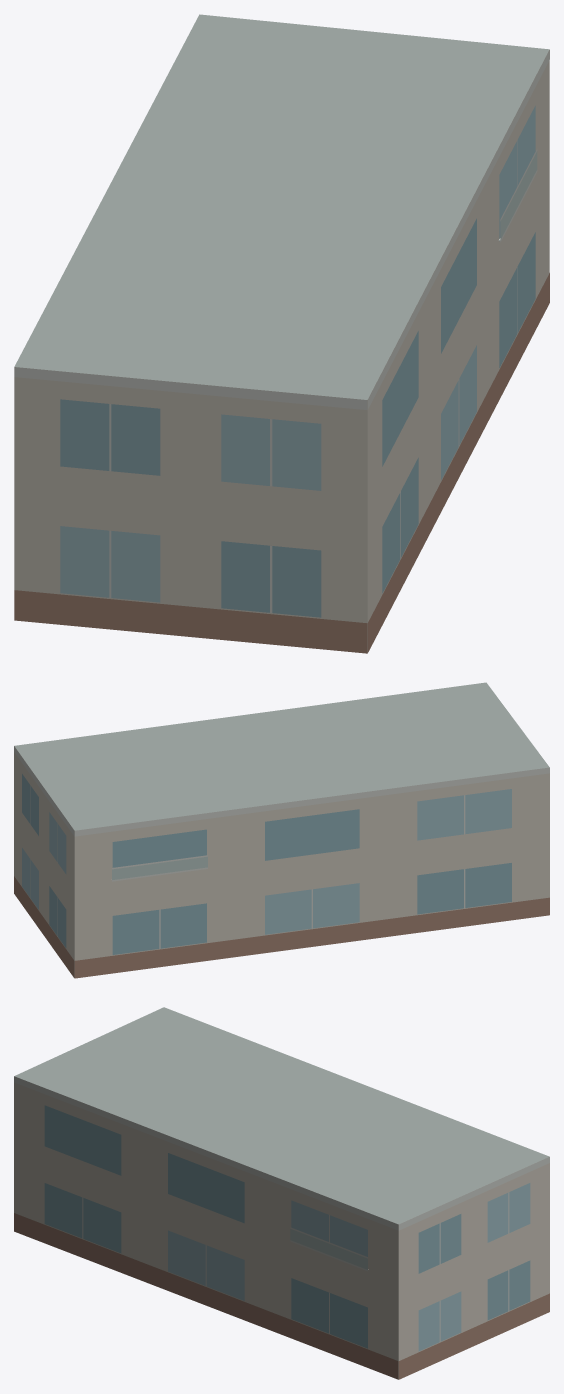
File: survey-upis-32711264.glb
The picture shows the model from 3 angles, top to bottom: view 1: azimuth 30°, elevation 25°; view 2: azimuth 150°, elevation 25°; view 3: azimuth 270°, elevation 25°; orthographic projection. The views are drawn at different scales.
Visible parts, largest first — view 1: survey-upis-32711264.tmp; view 2: survey-upis-32711264.tmp; view 3: survey-upis-32711264.tmp.
Boxes of the visible parts, bbox=[...] form: survey-upis-32711264.tmp: bbox=[14, 14, 549, 653]; survey-upis-32711264.tmp: bbox=[14, 682, 549, 978]; survey-upis-32711264.tmp: bbox=[14, 1007, 549, 1379].
Bounding box in the file's own units: 18.32 × 6.1 × 19.08.
